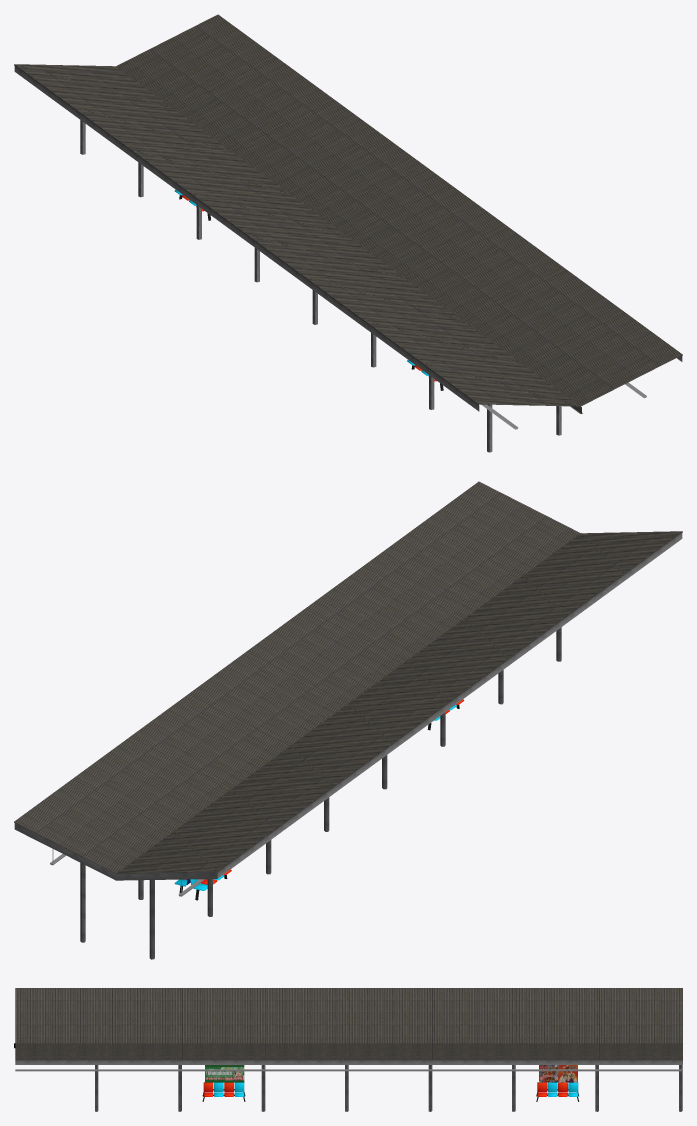
File: AMB_HOME_YANE2_CENTER_KQ.glb
3 views of the same model, one above another, from view 1: azimuth 30°, elevation 25°; view 2: azimuth 150°, elevation 25°; view 3: azimuth 270°, elevation 25° (orthographic). The views are drawn at different scales.
Visible parts, largest first — view 1: Mesh1; view 2: Mesh1; view 3: Mesh1, obj22, obj24.
Part boxes in pixels (box(x1,y1,x2,y2)): Mesh1: box(14, 14, 682, 452); Mesh1: box(14, 481, 682, 959); Mesh1: box(14, 988, 682, 1111); obj22: box(202, 1065, 245, 1101); obj24: box(536, 1065, 579, 1101).
Bounding box in the file's own units: 25.35 × 12.42 × 100.
24 materials, 23 textured.
